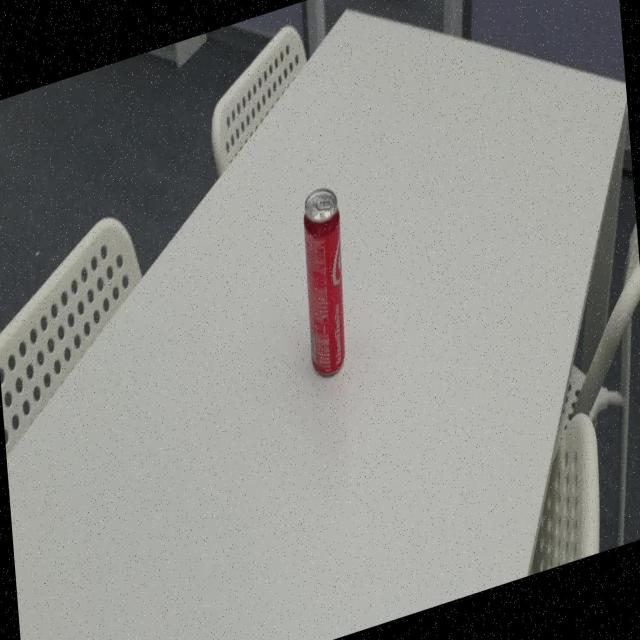coca-cola: (297, 180, 353, 387)
